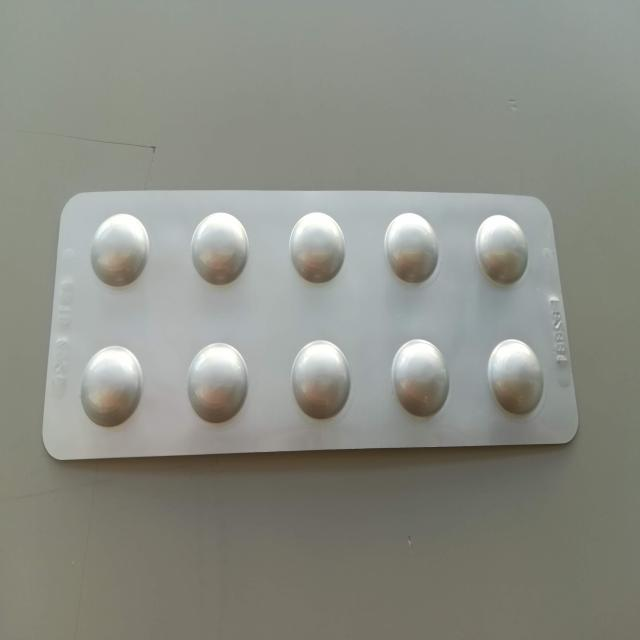Pill: (286, 332, 360, 424), (76, 341, 148, 432), (183, 335, 251, 426), (283, 203, 352, 289), (482, 334, 549, 422), (390, 334, 454, 422), (85, 209, 152, 290), (189, 209, 254, 290), (379, 208, 445, 287), (470, 213, 533, 289)
